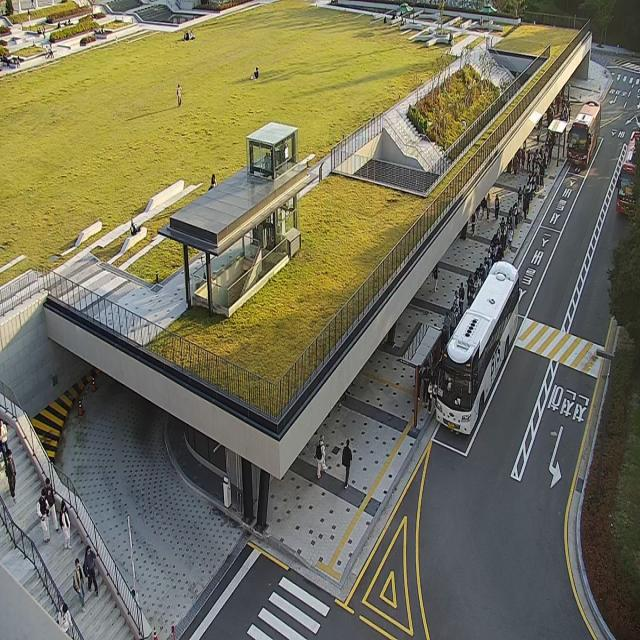queue: (417, 146, 547, 428)
